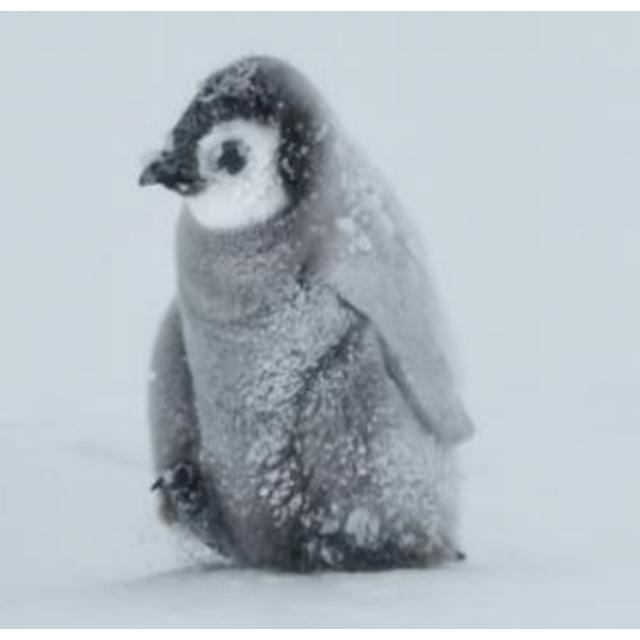penguin: (134, 52, 474, 576)
